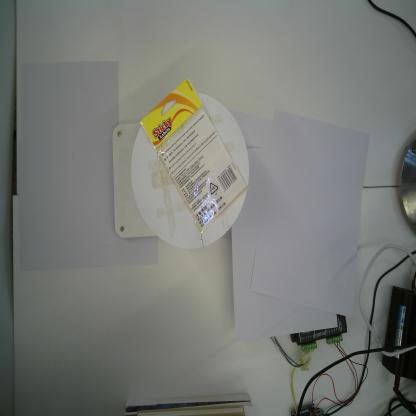Stationery: (138, 76, 249, 236)
